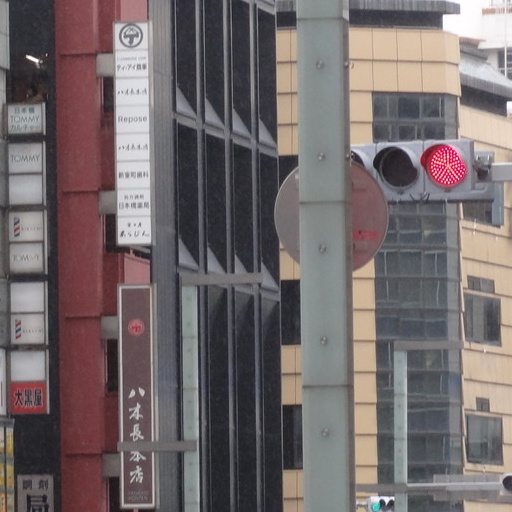Traffic_Signal_Red: (350, 138, 479, 199)
